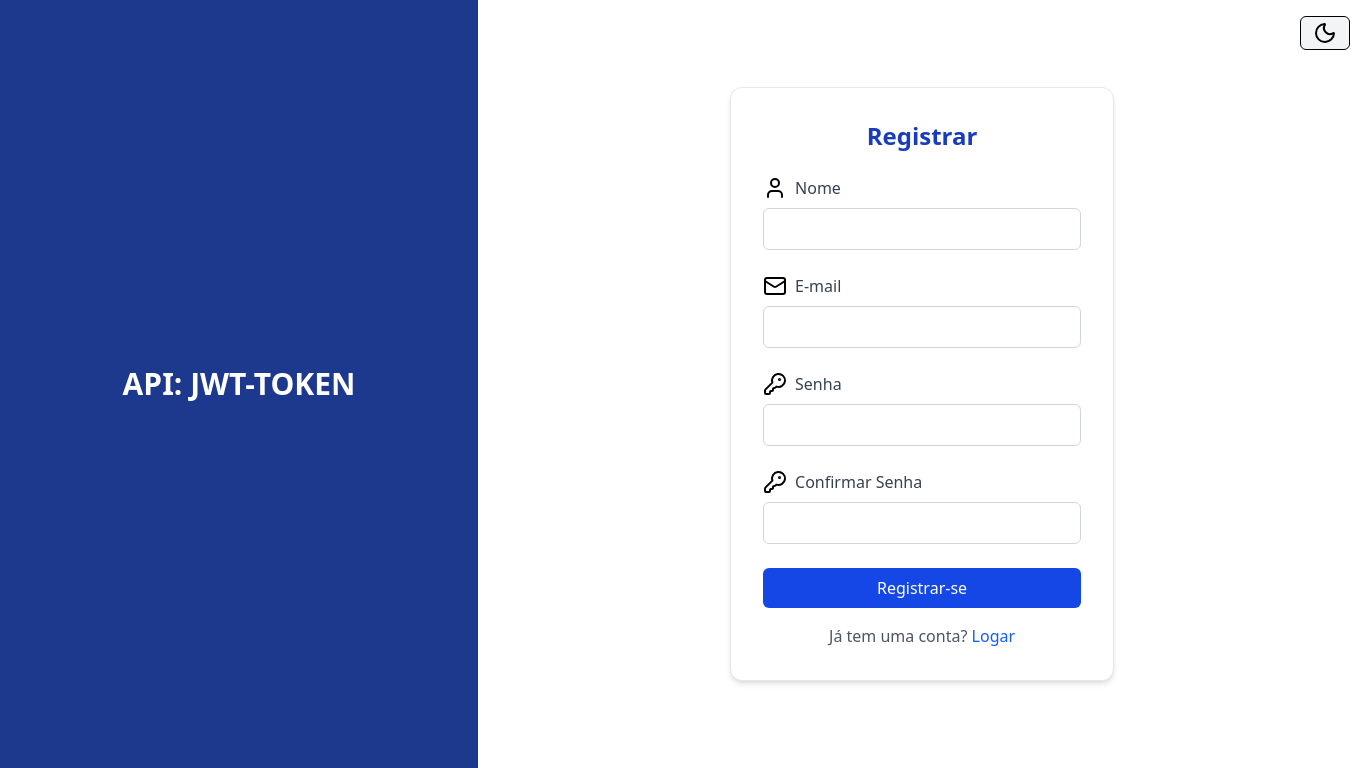
Test: Validação de Erros no Registro › Erro: nome muito curto
The image size is (1366, 768).
Click the button with id "theme-toggle-button".
click(1325, 33)  # box x1=1300 y1=16 x2=1350 y2=50
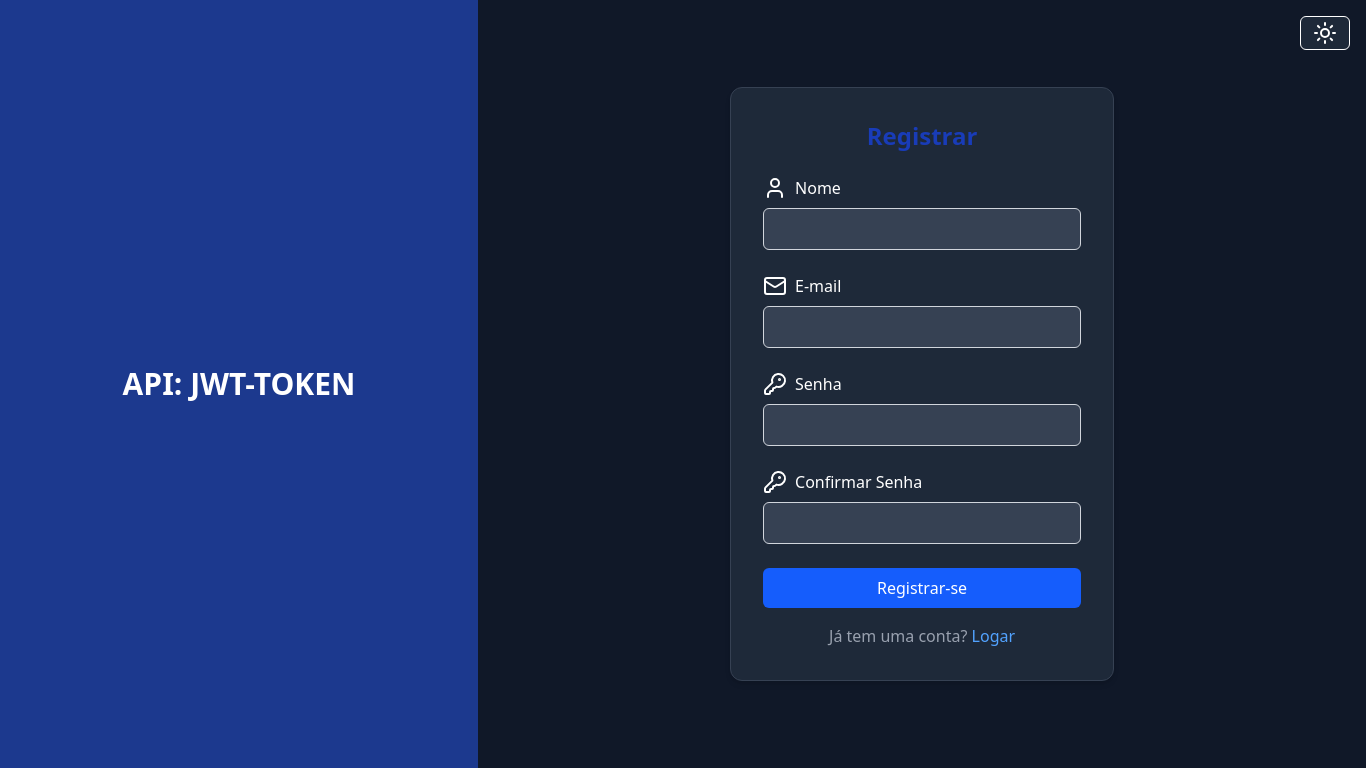
Type "Ed" into the field with id "name".
click(922, 229); type("Ed")  # box x1=763 y1=208 x2=1081 y2=250
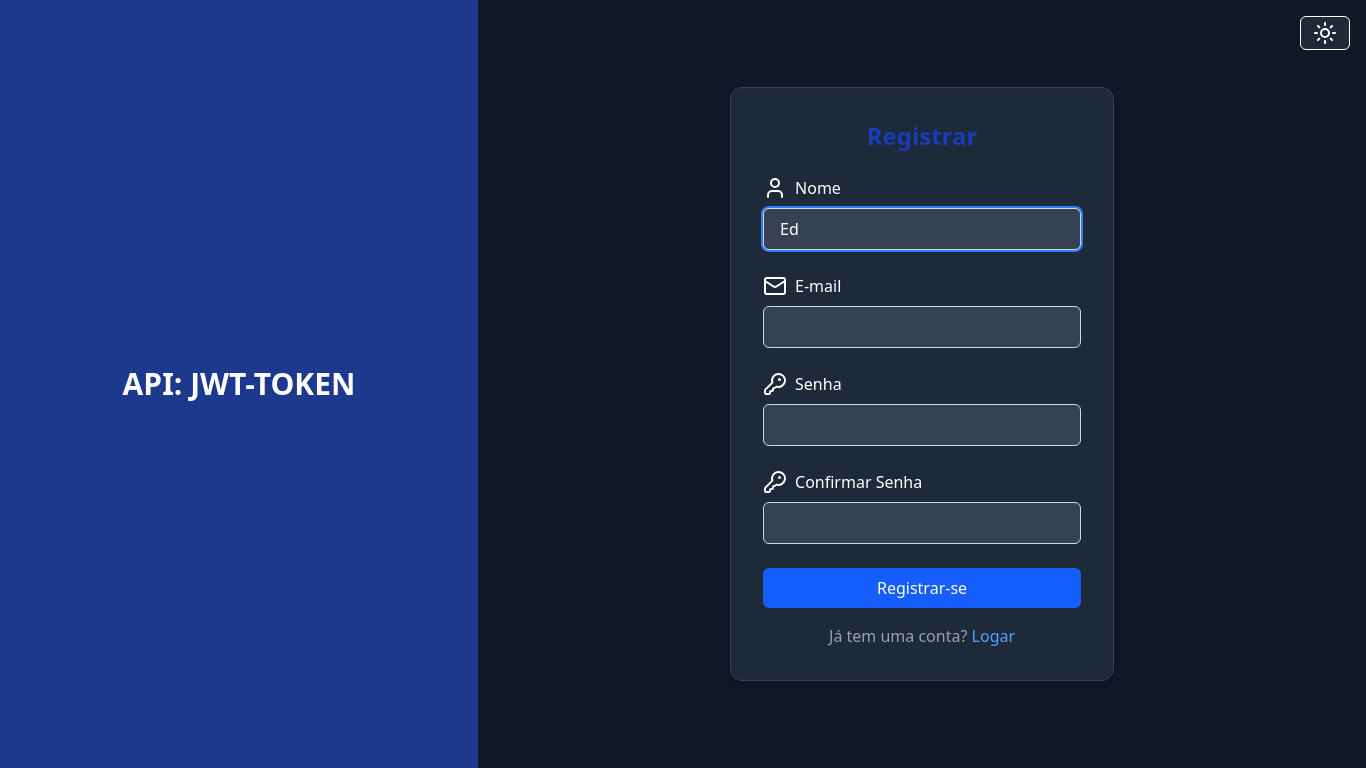
Type "teste@email.com" into the field with id "email".
click(922, 327); type("teste@email.com")  # box x1=763 y1=306 x2=1081 y2=348
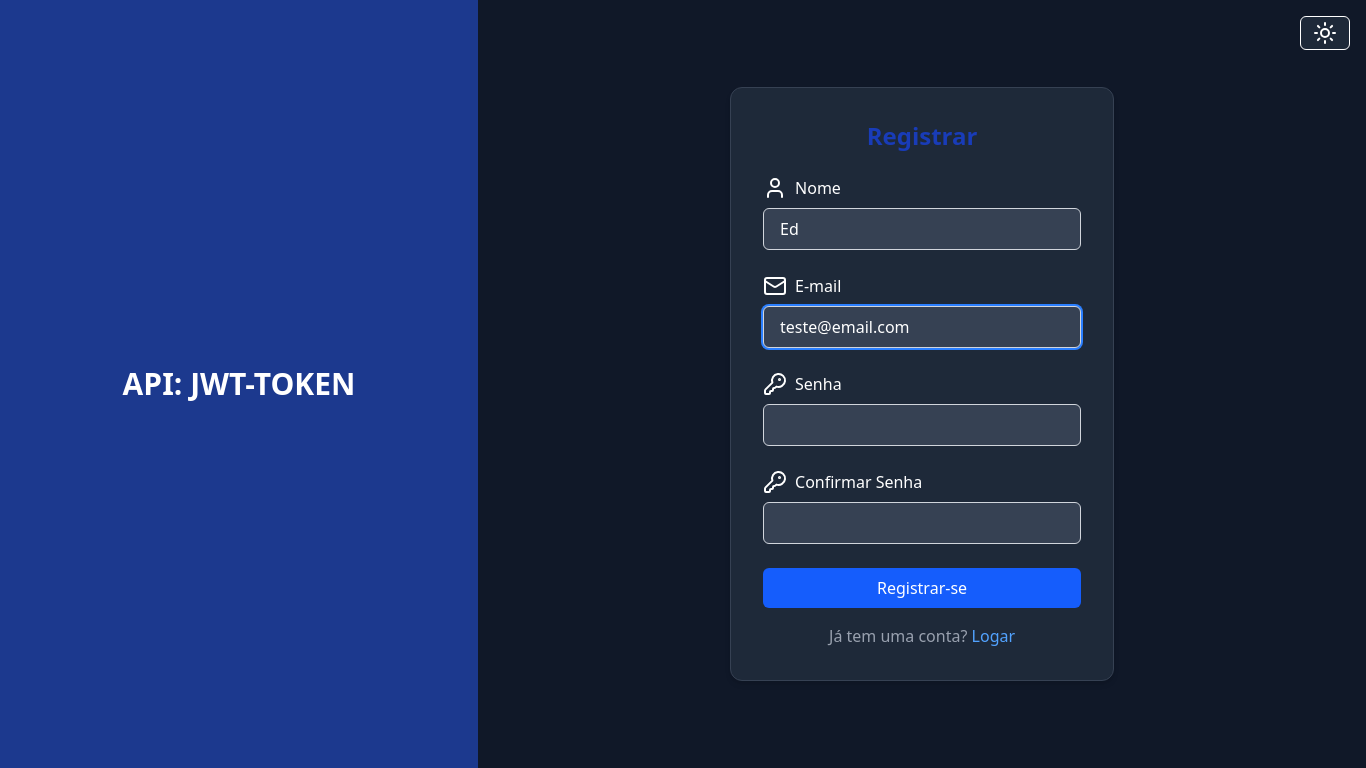
Type "Teste@123" into the 1st password field.
click(922, 425); type("Teste@123")  # box x1=763 y1=404 x2=1081 y2=446
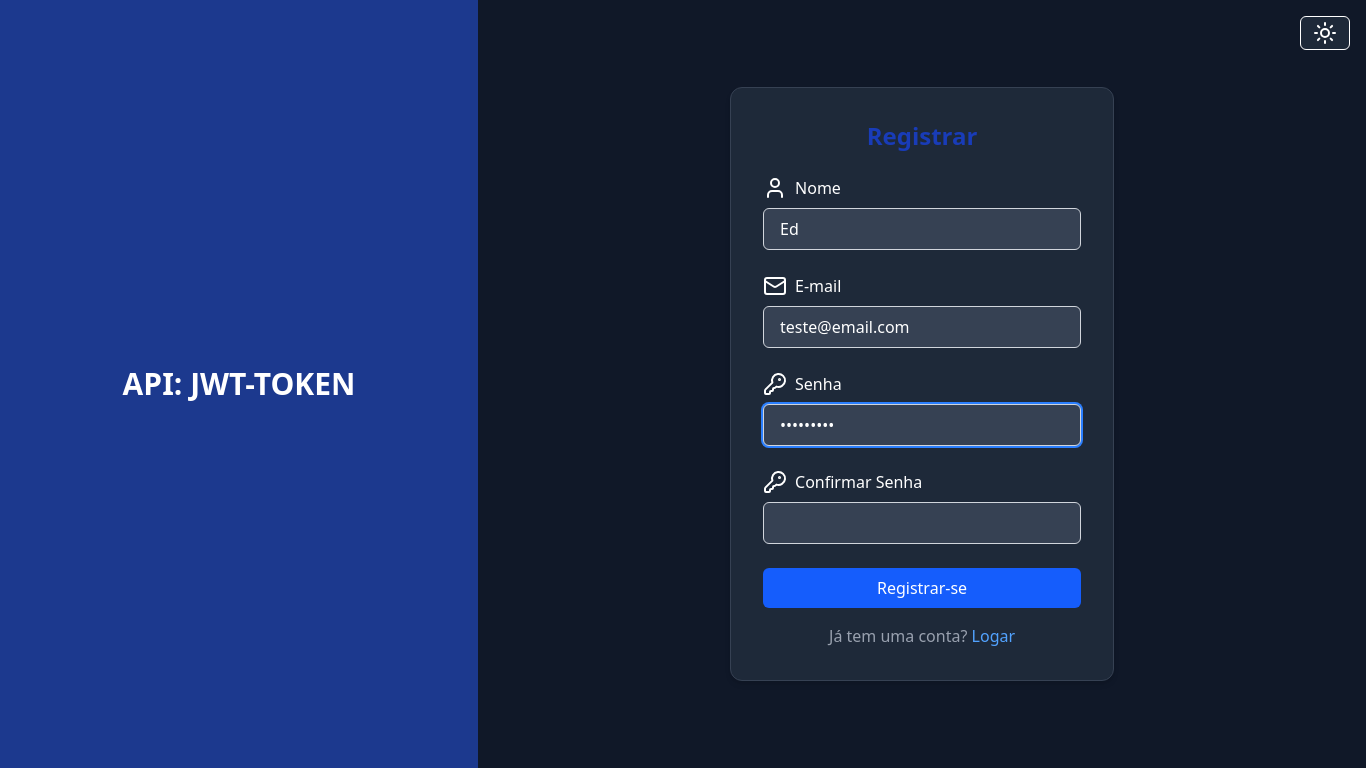
Type "Teste@123" into the password field below "Confirmar Senha".
click(922, 523); type("Teste@123")  # box x1=763 y1=502 x2=1081 y2=544
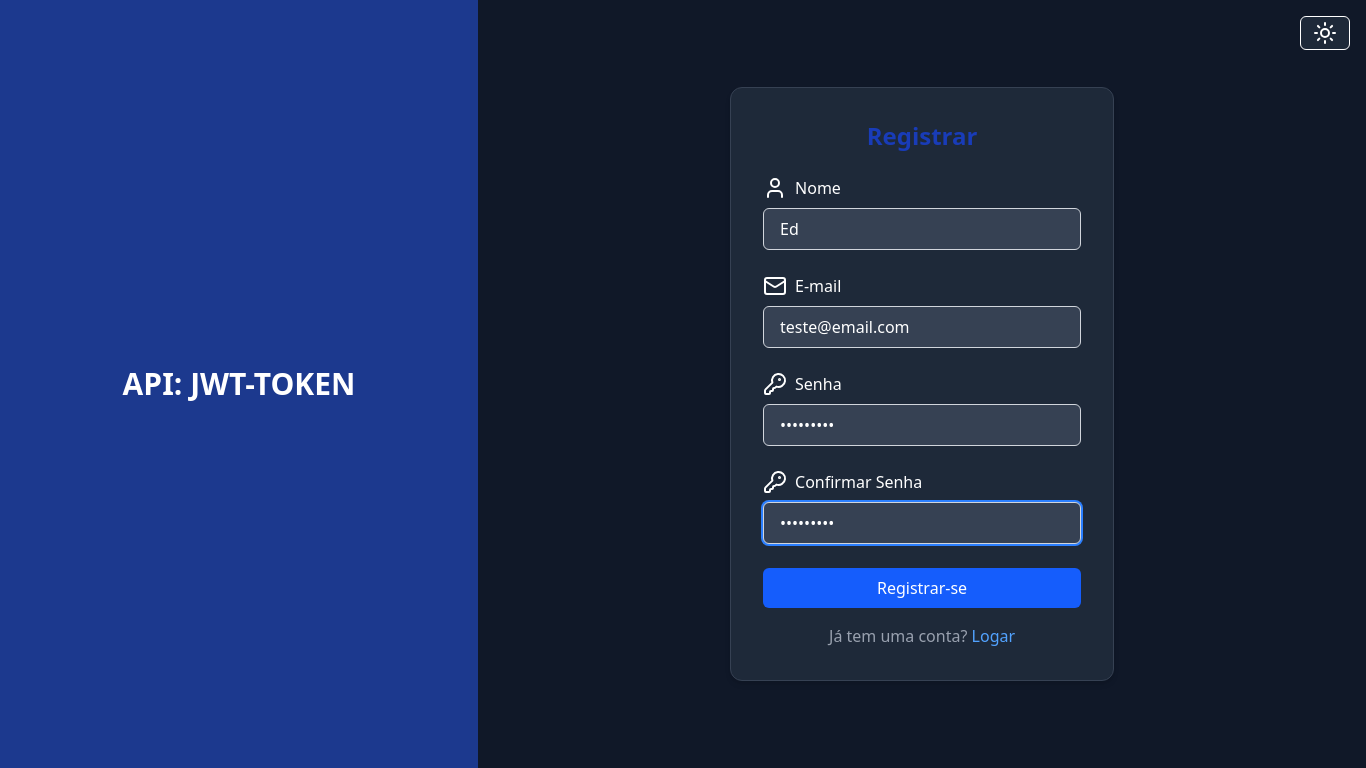
Click the button with id "register-button".
click(922, 588)  # box x1=763 y1=568 x2=1081 y2=608
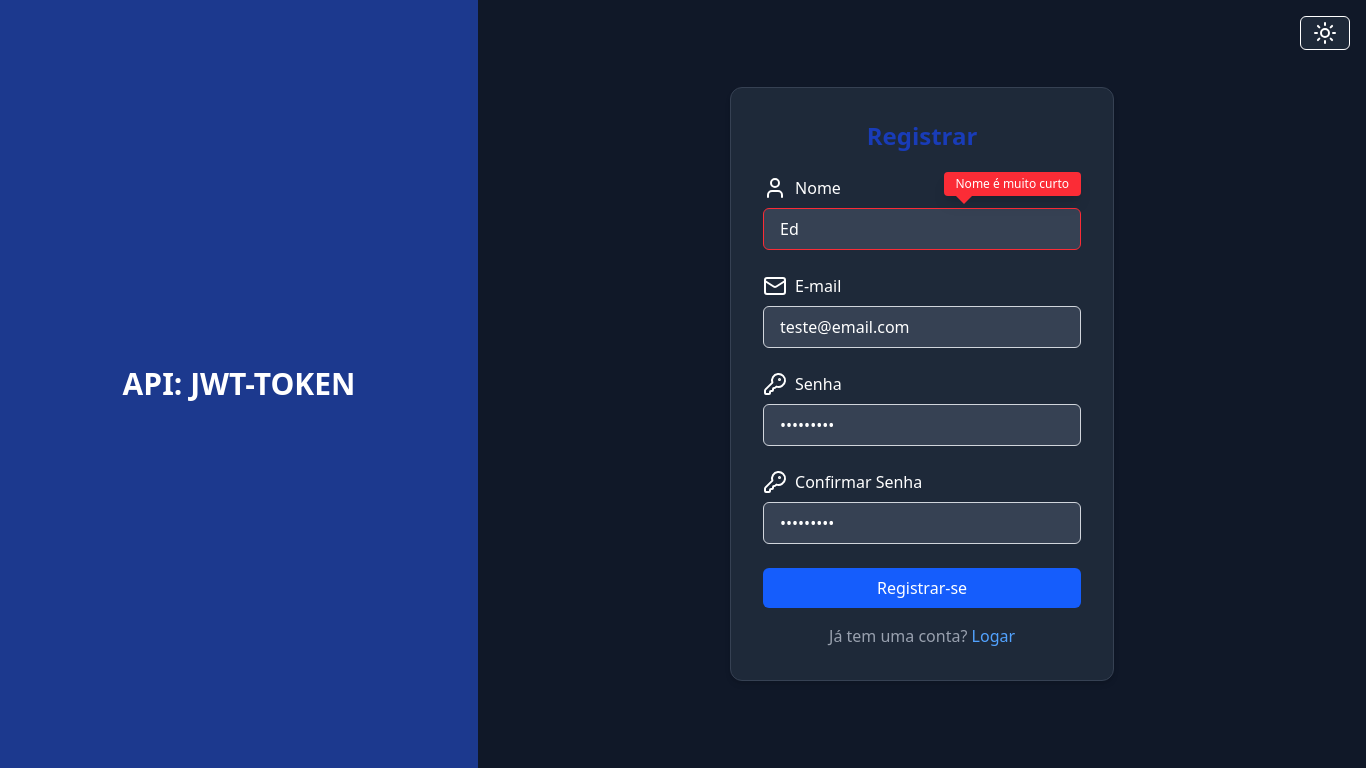
Expected: the element with id "error-message" reads "Nome é muito curto", x1=944 y1=172 x2=1082 y2=196
